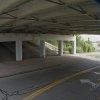Bridge: (4, 5, 90, 53)
